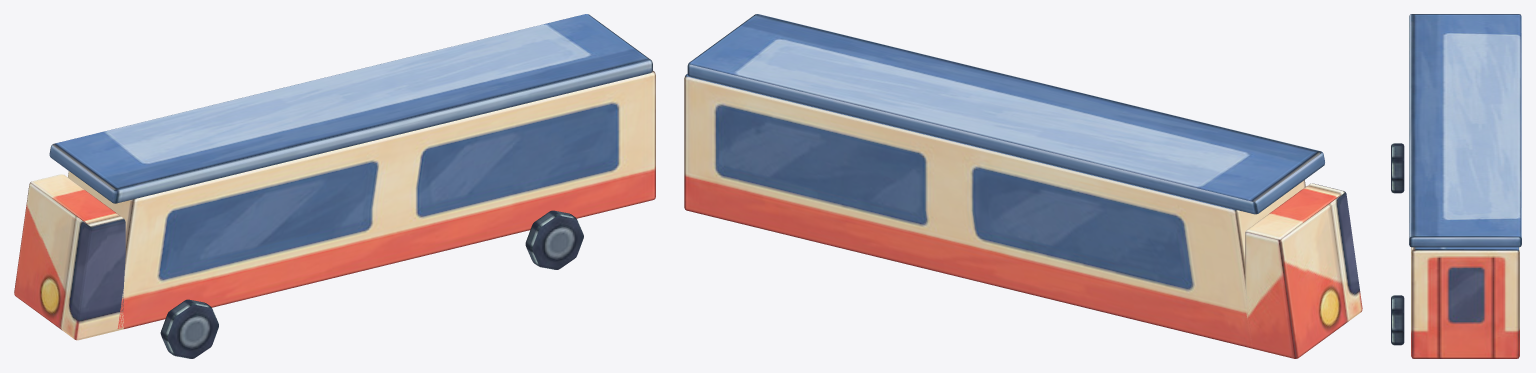
File: train.glb
3 views of the same model, side by side, from view 1: azimuth 30°, elevation 25°; view 2: azimuth 150°, elevation 25°; view 3: azimuth 270°, elevation 25° (orthographic). The views are drawn at different scales.
Parts seen in each view (by area): view 1: train; view 2: train; view 3: train.
Part boxes in pixels (x1=…): train: x1=14, y1=14, x2=655, y2=358; train: x1=684, y1=14, x2=1362, y2=358; train: x1=1391, y1=14, x2=1521, y2=358.
Size of the model in its own units: 6.84 by 1.99 by 1.57.
Materials: 1 (1 with a texture image).
